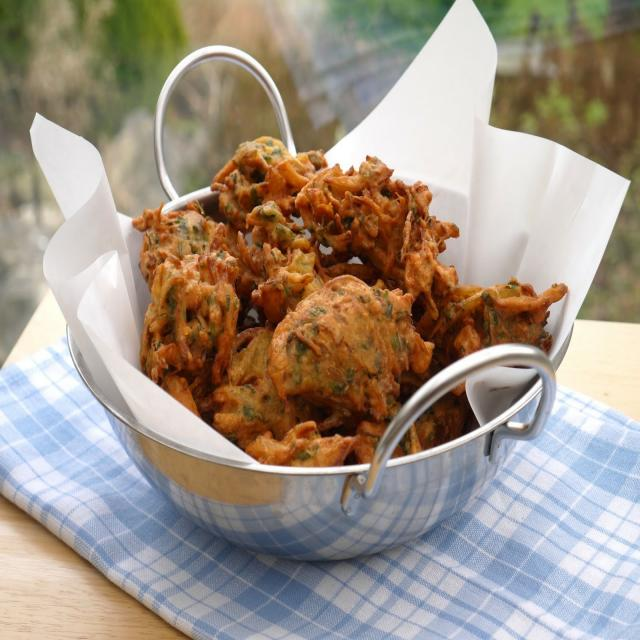Onion Pakora: (135, 130, 573, 467)
